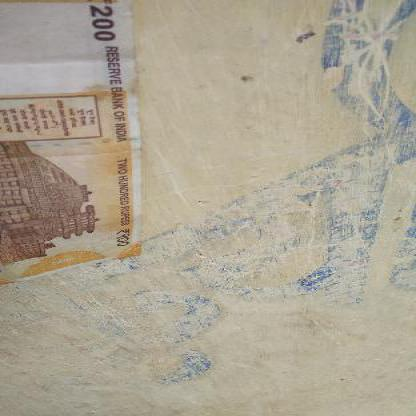New200Back: (0, 0, 140, 275)
